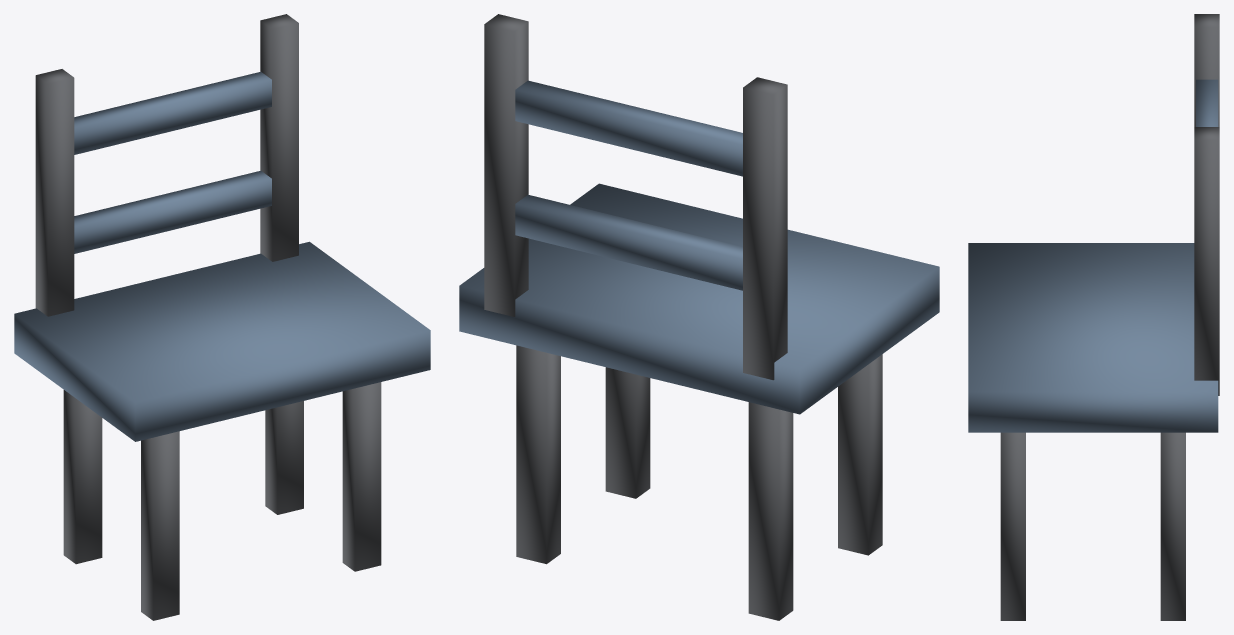
Rendered from interview_chair__wide.glb.
The picture shows the model from 3 angles, left to right: view 1: azimuth 30°, elevation 25°; view 2: azimuth 150°, elevation 25°; view 3: azimuth 270°, elevation 25°; orthographic projection. The views are drawn at different scales.
Visible parts, largest first — view 1: world; view 2: world; view 3: world.
Part boxes in pixels (x1,y1,x2,y2): world: (14,14,430,620); world: (459,14,939,620); world: (968,14,1219,620).
Bounding box in the file's own units: 0.6246 × 0.9515 × 0.4462.
